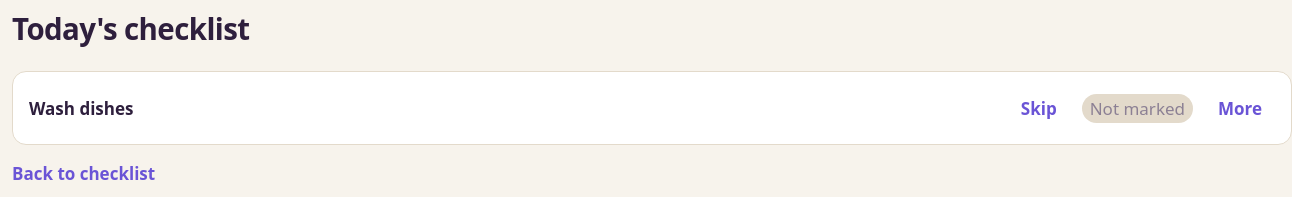
Test case: ChecklistTodayPage › queues the mark and shows a pending badge when the PUT fails with a network error
Click the button "Wash dishes". click: click(81, 108)
box: [29,96,996,121]
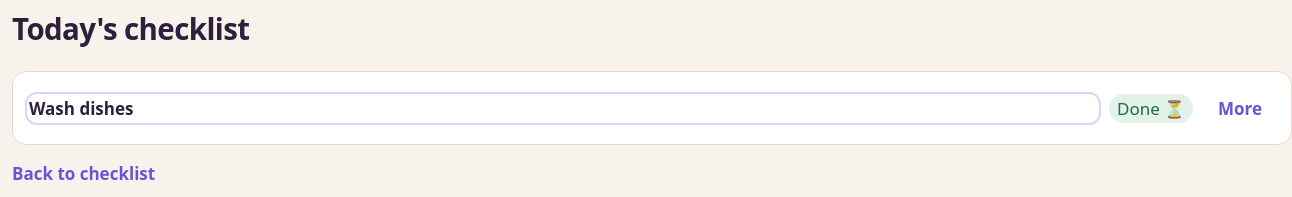
Expected: the button named "Not yet synced" shows "Done", [1109,94,1193,123]
